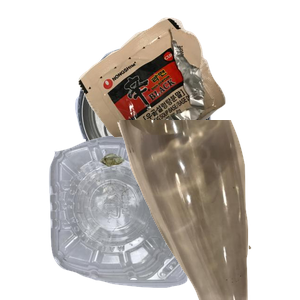glass: (115, 120, 300, 300)
metal: (73, 42, 277, 212)
plastic: (46, 130, 227, 300)
trash: (76, 15, 300, 145)
